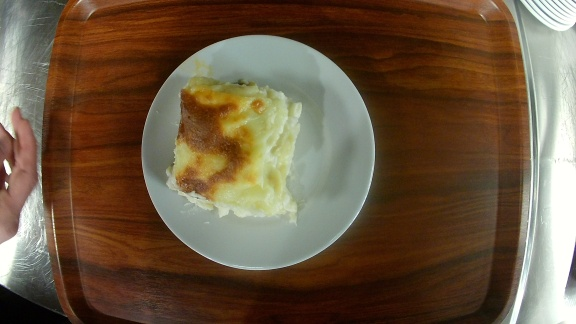firinmakarna: (140, 33, 378, 271)
